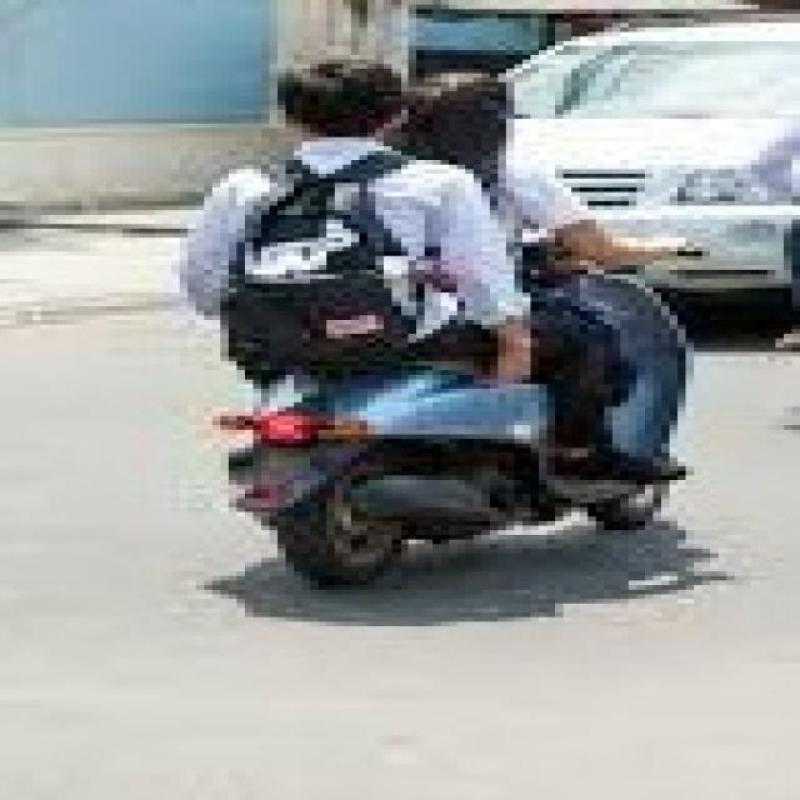nohelmet: (236, 55, 409, 155), (416, 58, 559, 167)
